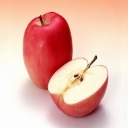apple: (48, 54, 109, 118)
